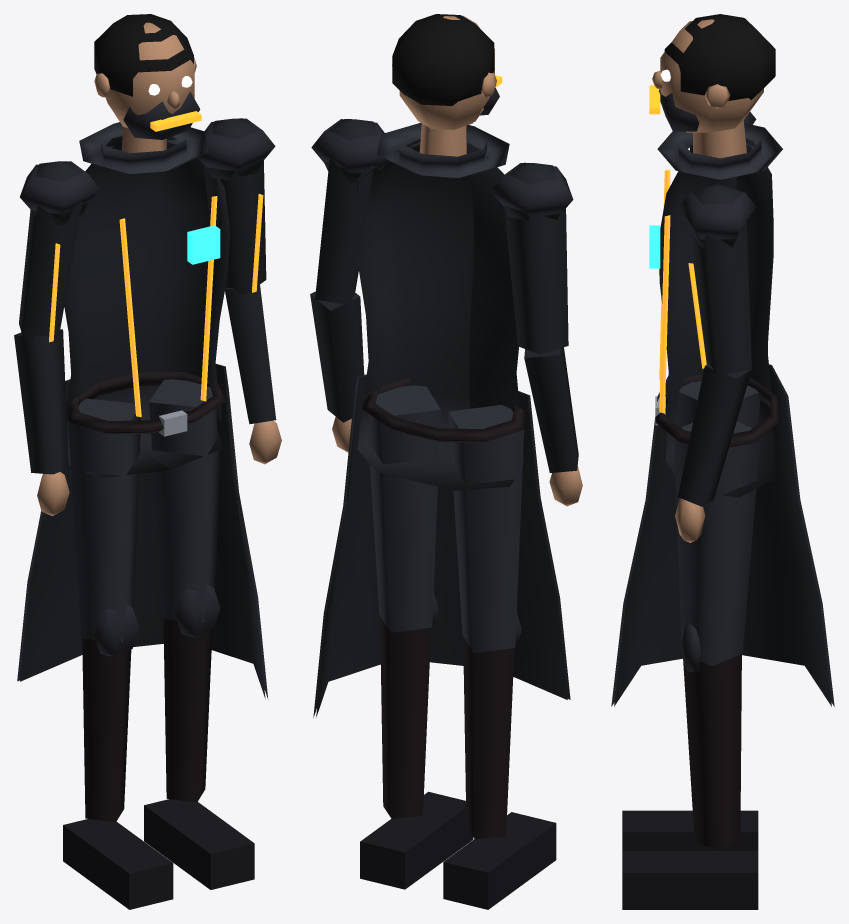
The model's file is person_tech_lo.glb.
The picture shows the model from 3 angles, left to right: view 1: azimuth 30°, elevation 25°; view 2: azimuth 150°, elevation 25°; view 3: azimuth 270°, elevation 25°; orthographic projection. The views are drawn at different scales.
Parts seen in each view (by area): view 1: cloth_a (×3), cloth_b (×3), leather (×3), shoe (×2), metal_dark (×3), skin (×3), hair, neon_amber, neon_cyan, metal_light; view 2: cloth_a (×3), cloth_b (×3), leather (×3), shoe (×2), hair, metal_dark, skin (×2); view 3: cloth_a (×2), cloth_b (×3), shoe (×2), leather (×2), hair, skin (×2), metal_dark (×2), neon_amber (×2), neon_cyan.
Part boxes in pixels (x1=…): cloth_a (×3): x1=14, y1=118, x2=276, y2=699; cloth_b (×3): x1=17, y1=122, x2=268, y2=699; leather (×3): x1=66, y1=372, x2=225, y2=822; shoe (×2): x1=63, y1=799, x2=254, y2=909; metal_dark (×3): x1=20, y1=92, x2=275, y2=656; skin (×3): x1=37, y1=22, x2=281, y2=515; hair: x1=94, y1=14, x2=193, y2=96; neon_amber: x1=119, y1=111, x2=217, y2=417; neon_cyan: x1=187, y1=225, x2=220, y2=264; metal_light: x1=159, y1=410, x2=187, y2=436; cloth_a (×3): x1=310, y1=119, x2=578, y2=717; cloth_b (×3): x1=313, y1=122, x2=570, y2=717; leather (×3): x1=362, y1=378, x2=527, y2=839; shoe (×2): x1=360, y1=791, x2=556, y2=909; hair: x1=392, y1=14, x2=494, y2=105; metal_dark: x1=311, y1=87, x2=573, y2=216; skin (×2): x1=392, y1=15, x2=582, y2=506; cloth_a (×2): x1=614, y1=138, x2=831, y2=706; cloth_b (×3): x1=611, y1=123, x2=834, y2=706; shoe (×2): x1=622, y1=810, x2=758, y2=909; leather (×2): x1=655, y1=374, x2=779, y2=850; hair: x1=664, y1=14, x2=775, y2=100; skin (×2): x1=652, y1=19, x2=763, y2=542; metal_dark (×2): x1=659, y1=89, x2=756, y2=672; neon_amber (×2): x1=649, y1=85, x2=706, y2=413; neon_cyan: x1=649, y1=225, x2=660, y2=268.
Size of the model in its own units: 0.537 by 1.74 by 0.41.
